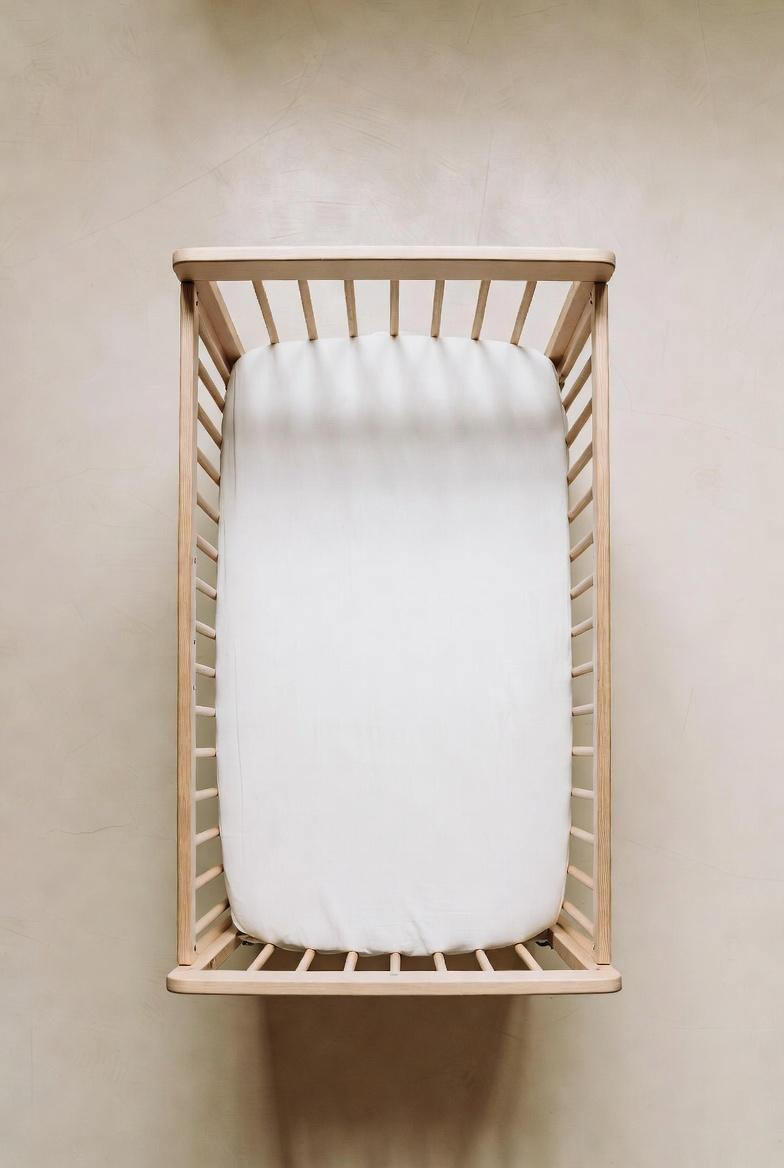crib: (167, 248, 620, 994)
